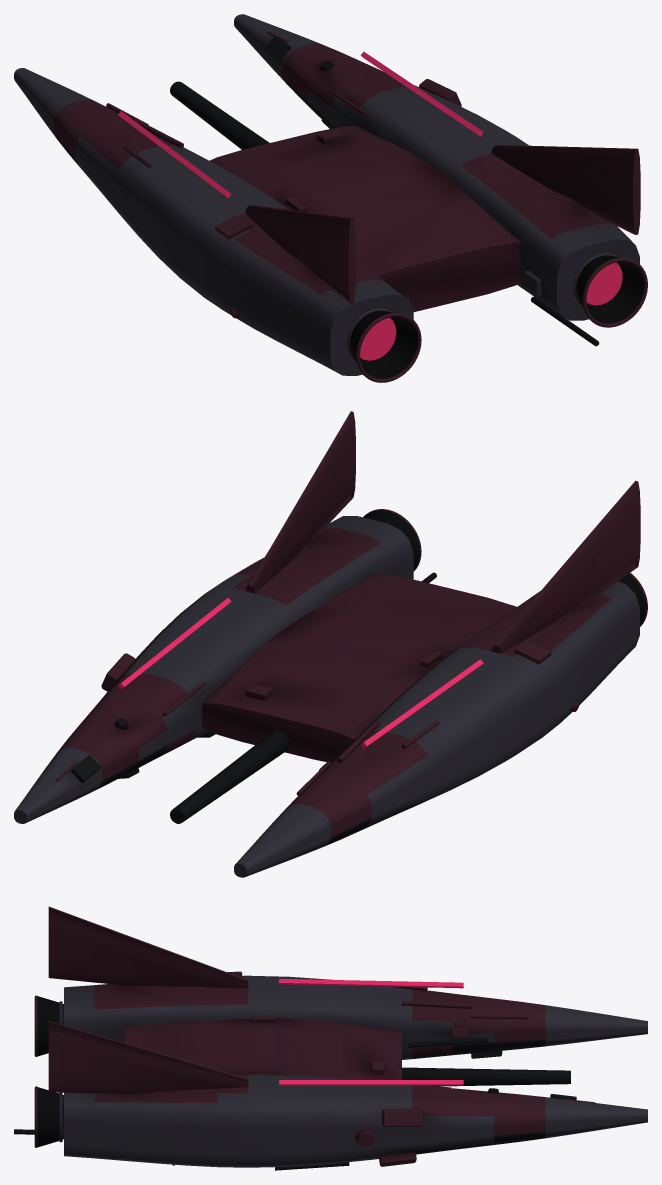
Rendered from raider-transformed.glb.
3 renders of one model, top to bottom at view 1: azimuth 30°, elevation 25°; view 2: azimuth 150°, elevation 25°; view 3: azimuth 270°, elevation 25°, orthographic. The views are drawn at different scales.
Parts seen in each view (by area): view 1: raider; view 2: raider; view 3: raider.
Boxes of the visible parts, x1,y1,x2,y2 form: raider: [14, 14, 647, 382]; raider: [14, 411, 647, 877]; raider: [14, 906, 647, 1170].
Size of the model in its own units: 11.48 by 5.68 by 22.
